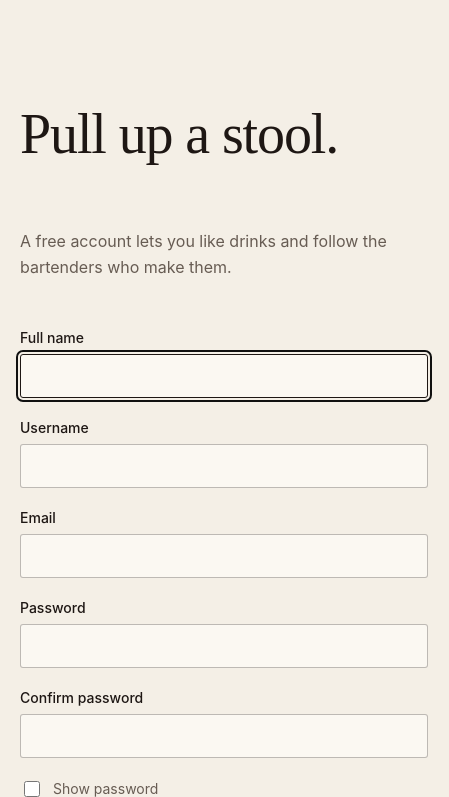
Test: Signup › shows a client-side validation message for a malformed email
In the field labelled "Email": (224, 556) [20, 534, 428, 578], type "not-an-email"
(page scrolled)
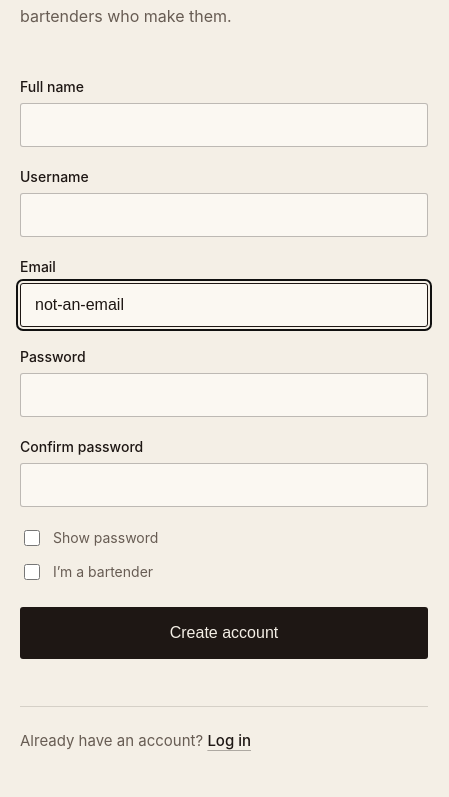
Click the button "Create account": (224, 633) [20, 607, 428, 659]
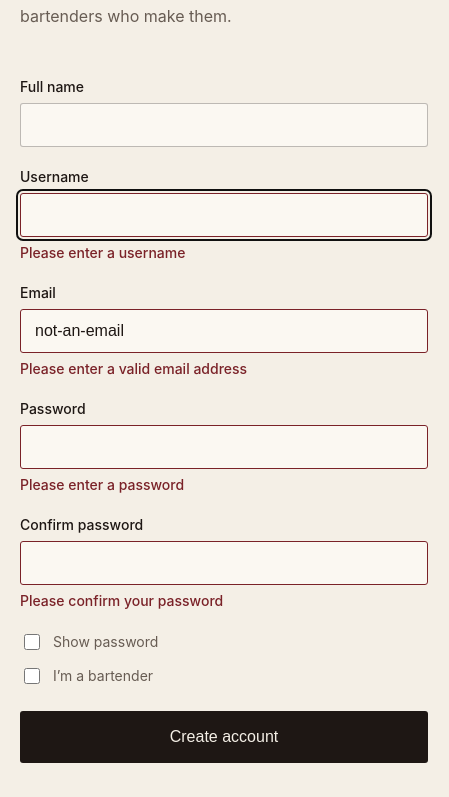
Expected: the text "Please enter a valid email address" is shown, [20, 360, 247, 377]
